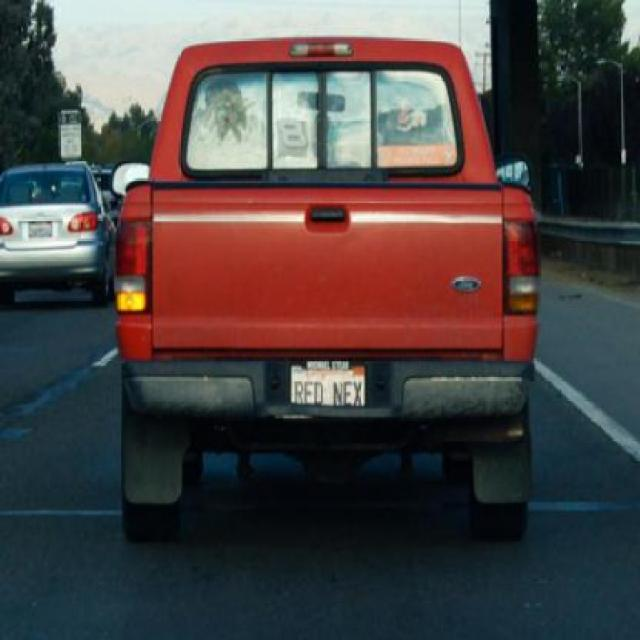License-Plates: (286, 360, 369, 413)
